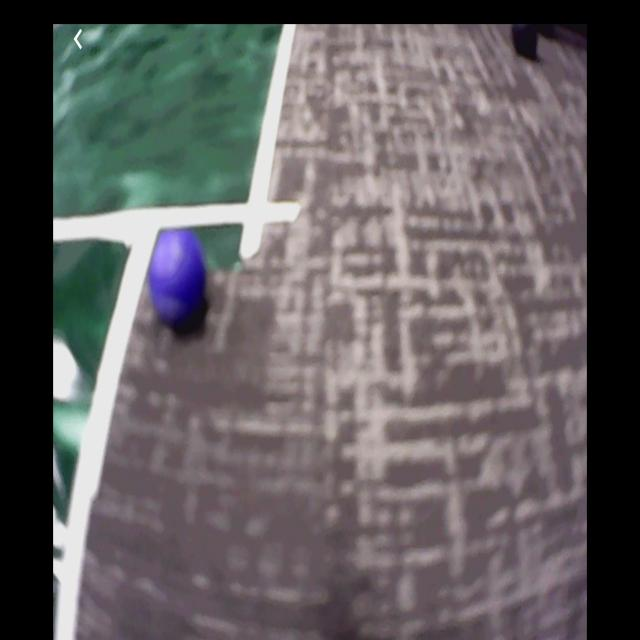ball: (151, 231, 209, 330)
